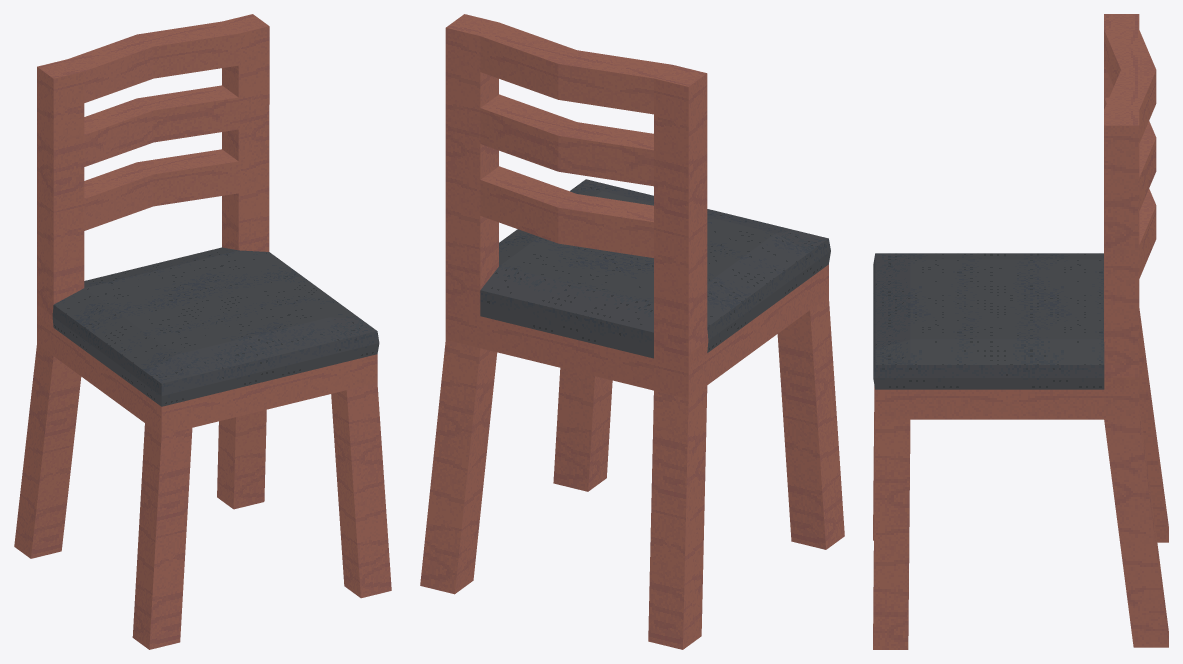
Rendered from chair.glb.
3 views of the same model, side by side, from view 1: azimuth 30°, elevation 25°; view 2: azimuth 150°, elevation 25°; view 3: azimuth 270°, elevation 25° (orthographic). The views are drawn at different scales.
Parts seen in each view (by area): view 1: Chair; view 2: Chair; view 3: Chair.
Part boxes in pixels (x1,y1,x2,y2): Chair: (14,14,391,649); Chair: (420,14,844,649); Chair: (873,14,1168,649).
Size of the model in its own units: 0.5178 by 0.9963 by 0.5163.
Materials: 2 (2 with a texture image).
